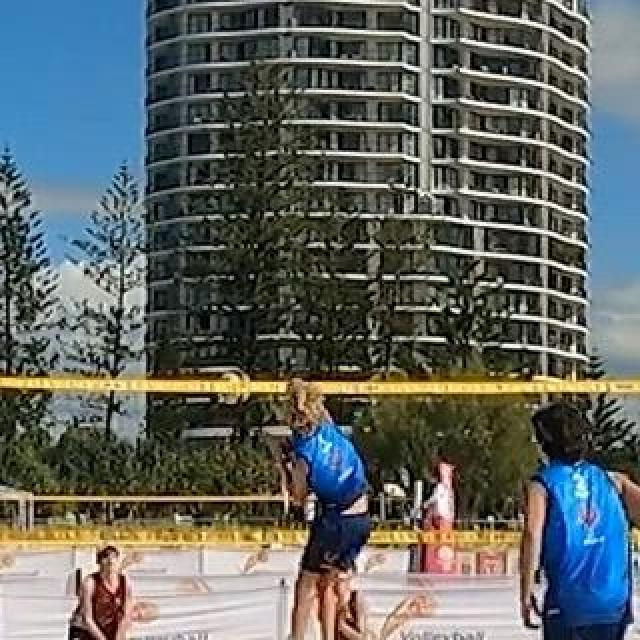volleyball: (216, 367, 252, 405)
